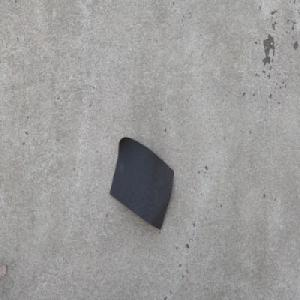PaintChip: (109, 135, 174, 230)
